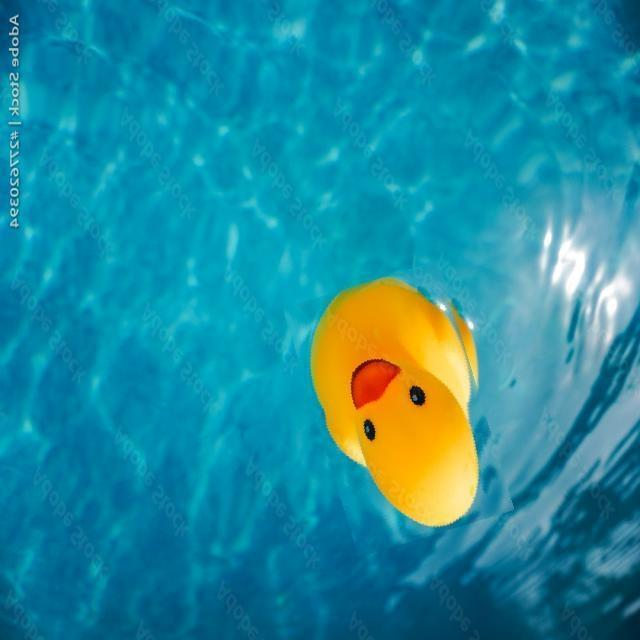rubber-duck: (311, 277, 476, 524)
